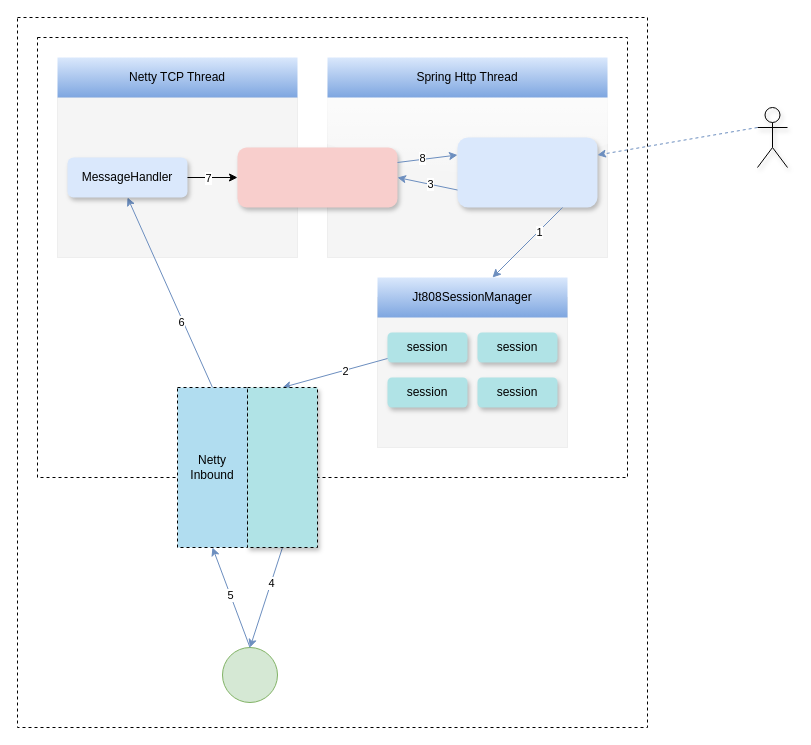
Some shapes in this 811 by 745 pixel diagram are drawn without their labels. The shapes that lost their labels are listed below. From the top down, each one's centre as x and y in pixels, then its label:
point (318, 178): CommandWaitingPool
point (528, 173): Jt808CommandSender
point (283, 468): Netty Outbound
point (250, 674): 终端
